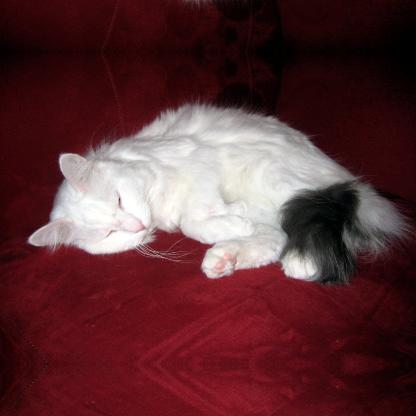Cat: (24, 98, 414, 288)
